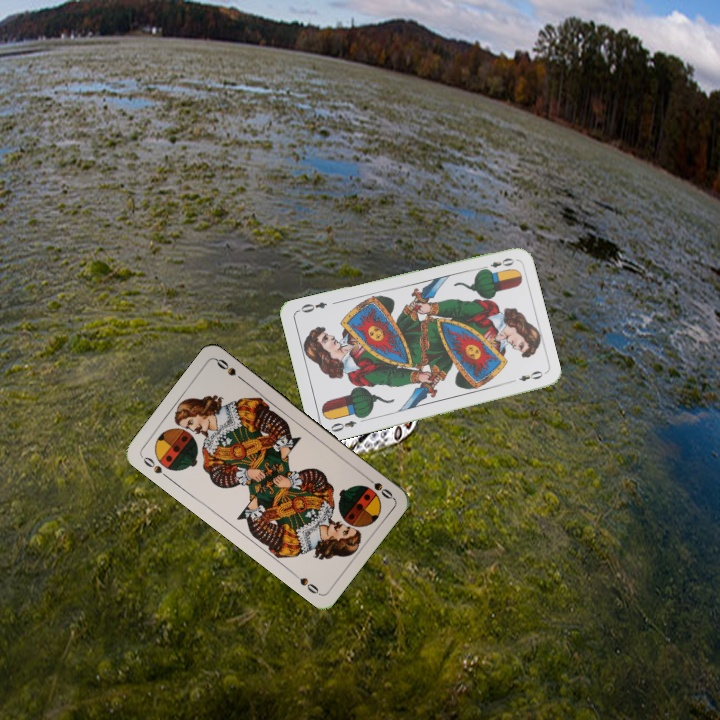EO: (477, 254, 517, 274), (323, 416, 359, 435)
SO: (361, 471, 395, 502), (138, 453, 172, 482)
